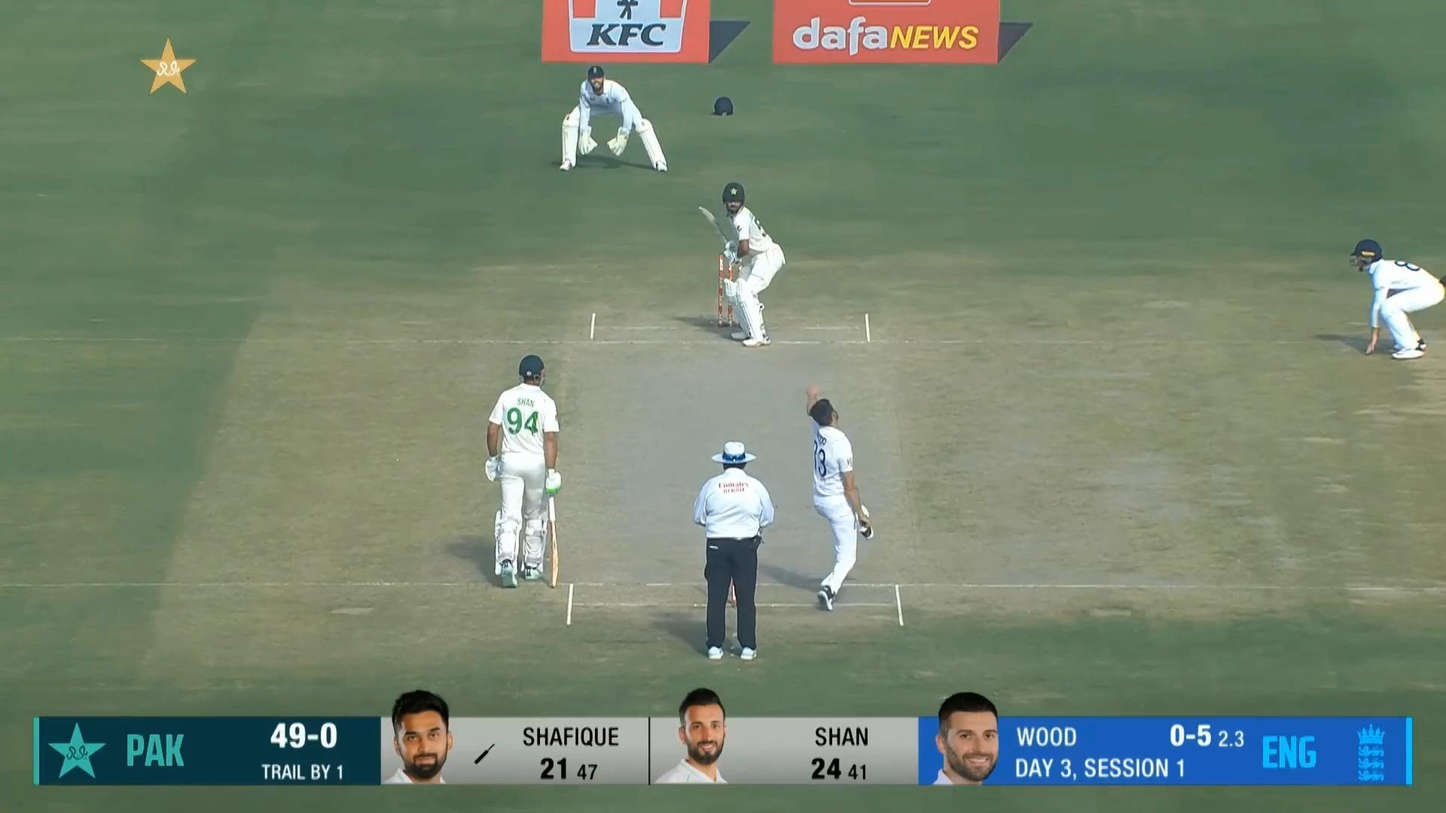BM 1: (697, 181, 787, 349)
BO: (806, 379, 875, 612)
